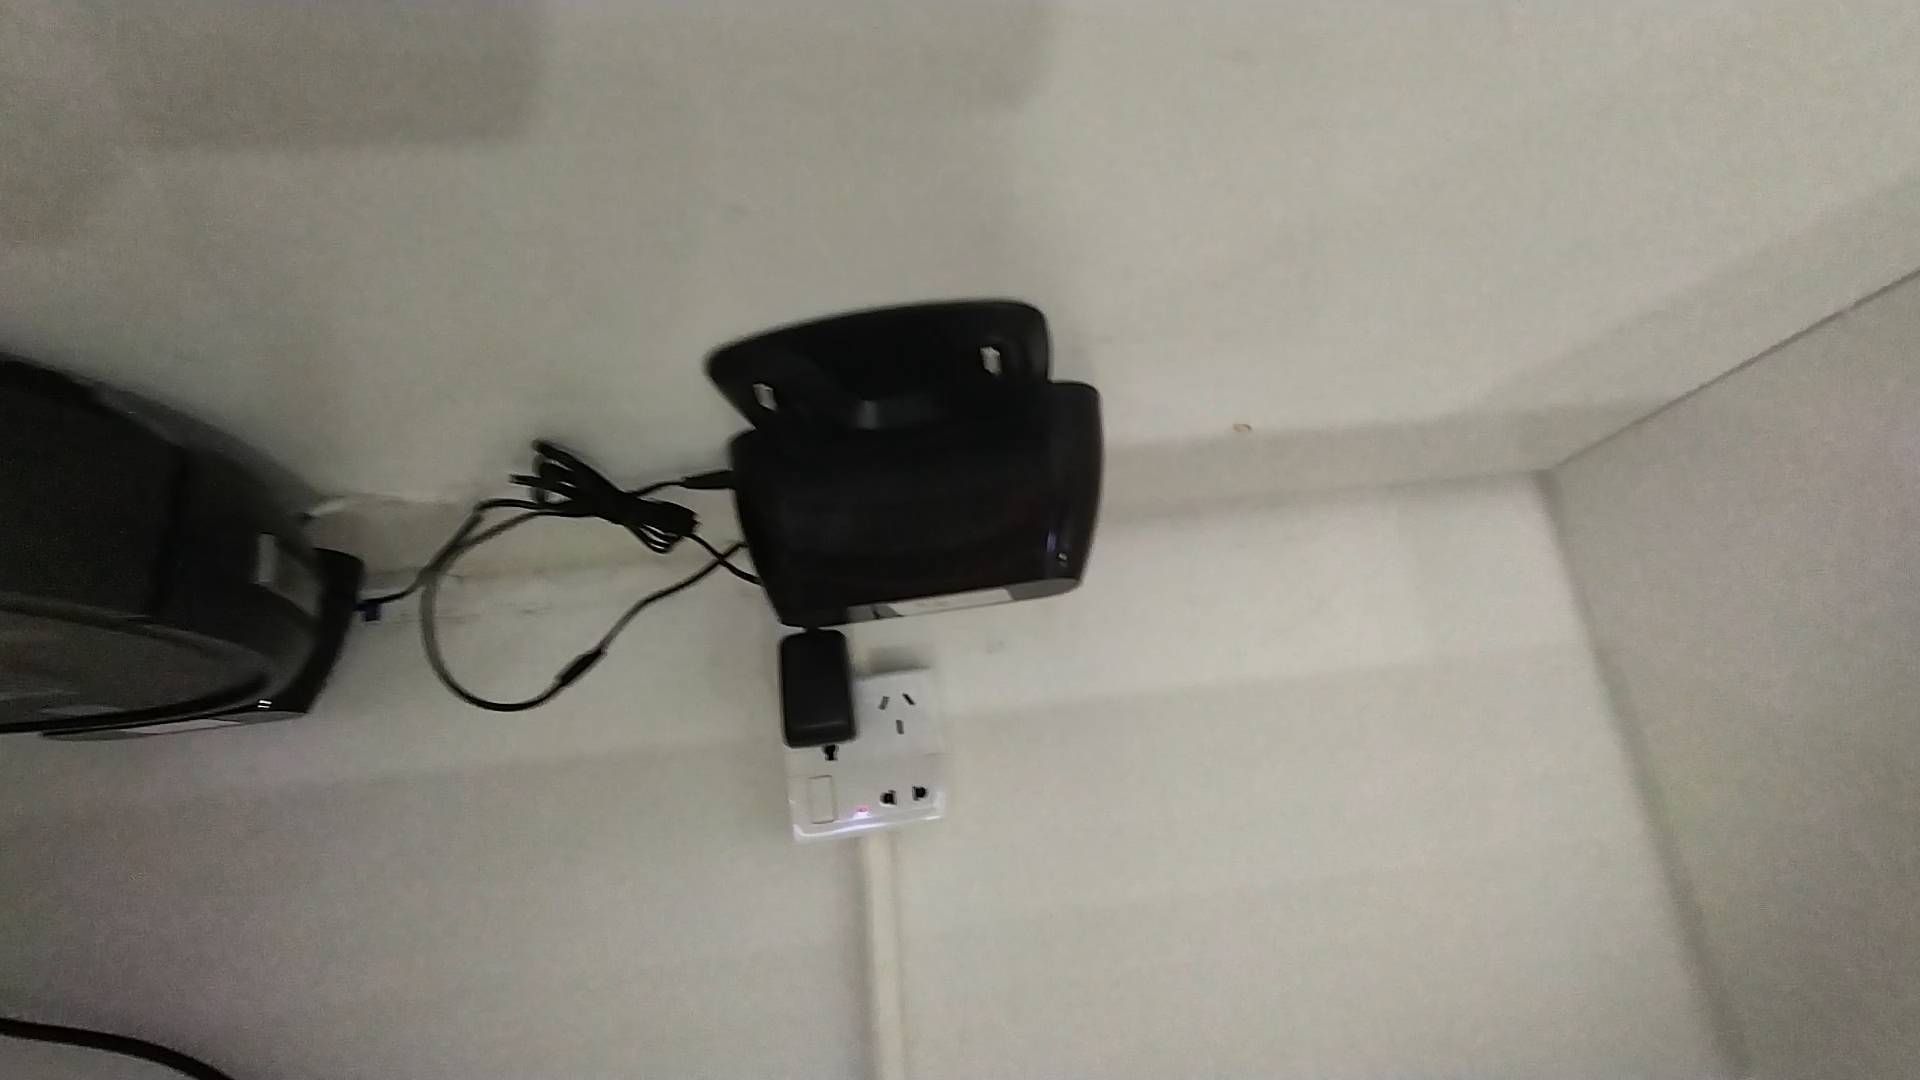recharge seat: (702, 295, 1109, 628)
